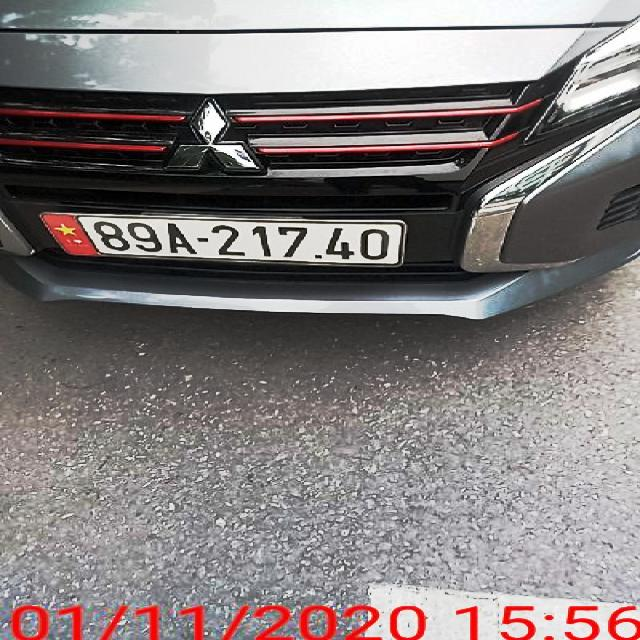license_plate: (42, 214, 404, 267)
